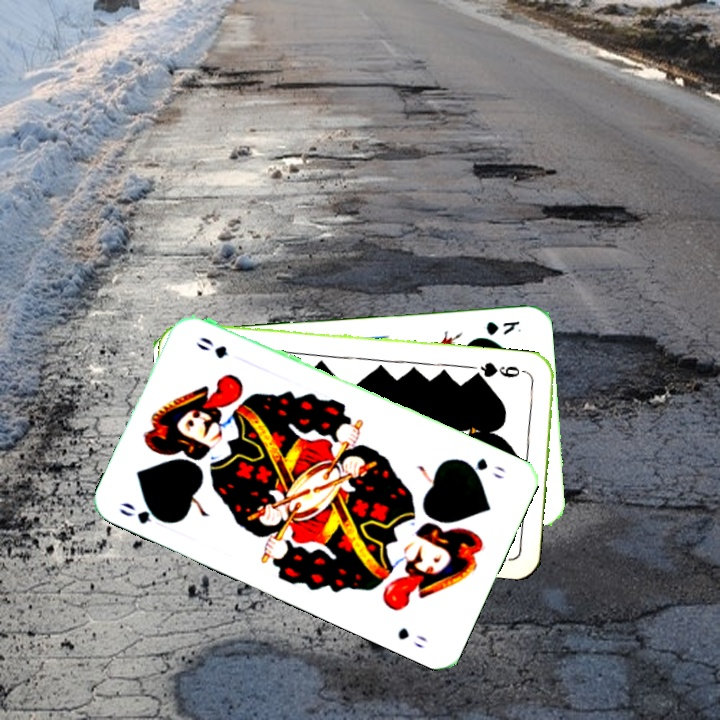G9: (472, 358, 532, 381)
GK: (482, 317, 522, 338)
GO: (115, 498, 173, 527), (455, 454, 507, 482)
